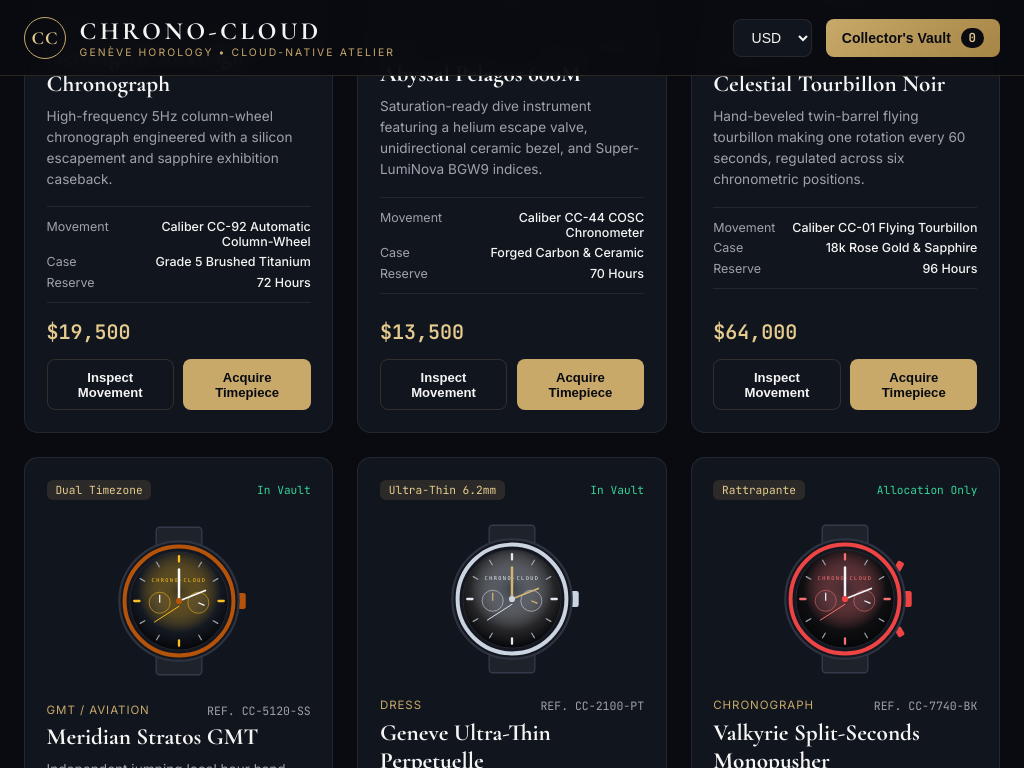
Test case: Chrono-Cloud Storefront › opens the technical movement specification modal when Inspect Movement is clicked
The image size is (1024, 768).
(page scrolled)
Click the button "Inspect Movement" below "$19,500": (110, 384) [47,359,174,410]
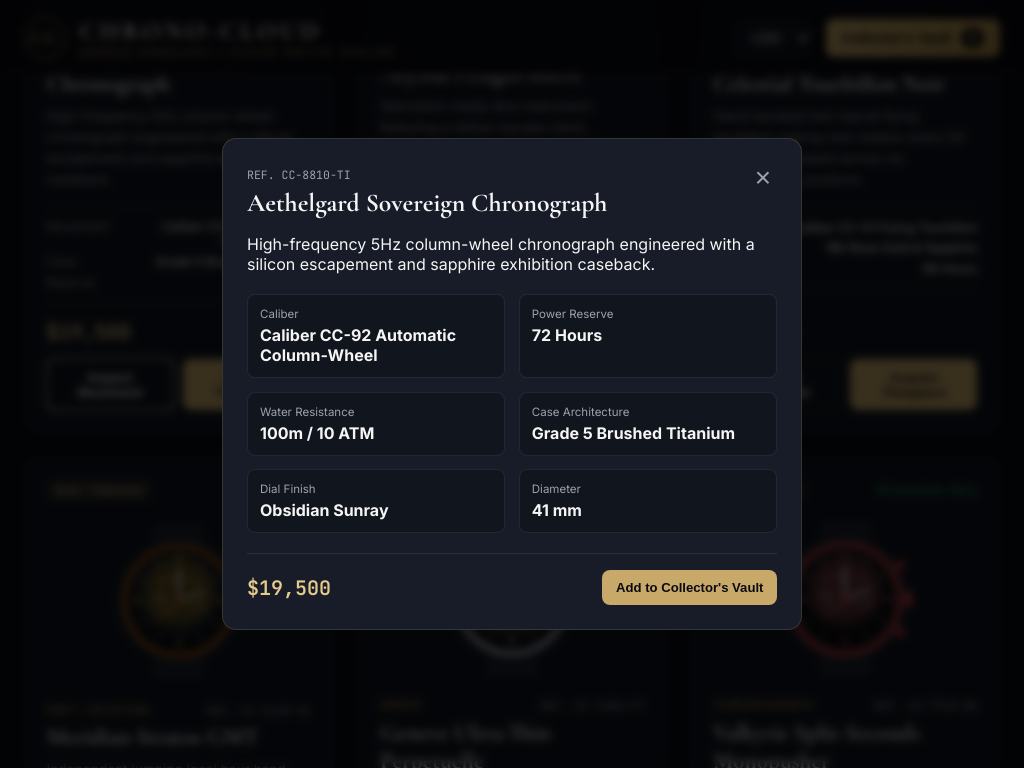
Now the dialog with test id "movement-modal" is shown
Now the text "Caliber CC-92 Automatic Column-Wheel" is shown, box [260,325,456,365]
